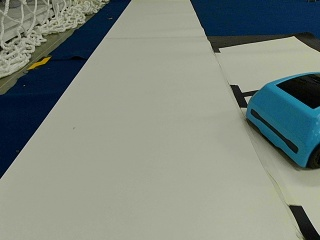car: (247, 70, 319, 168)
